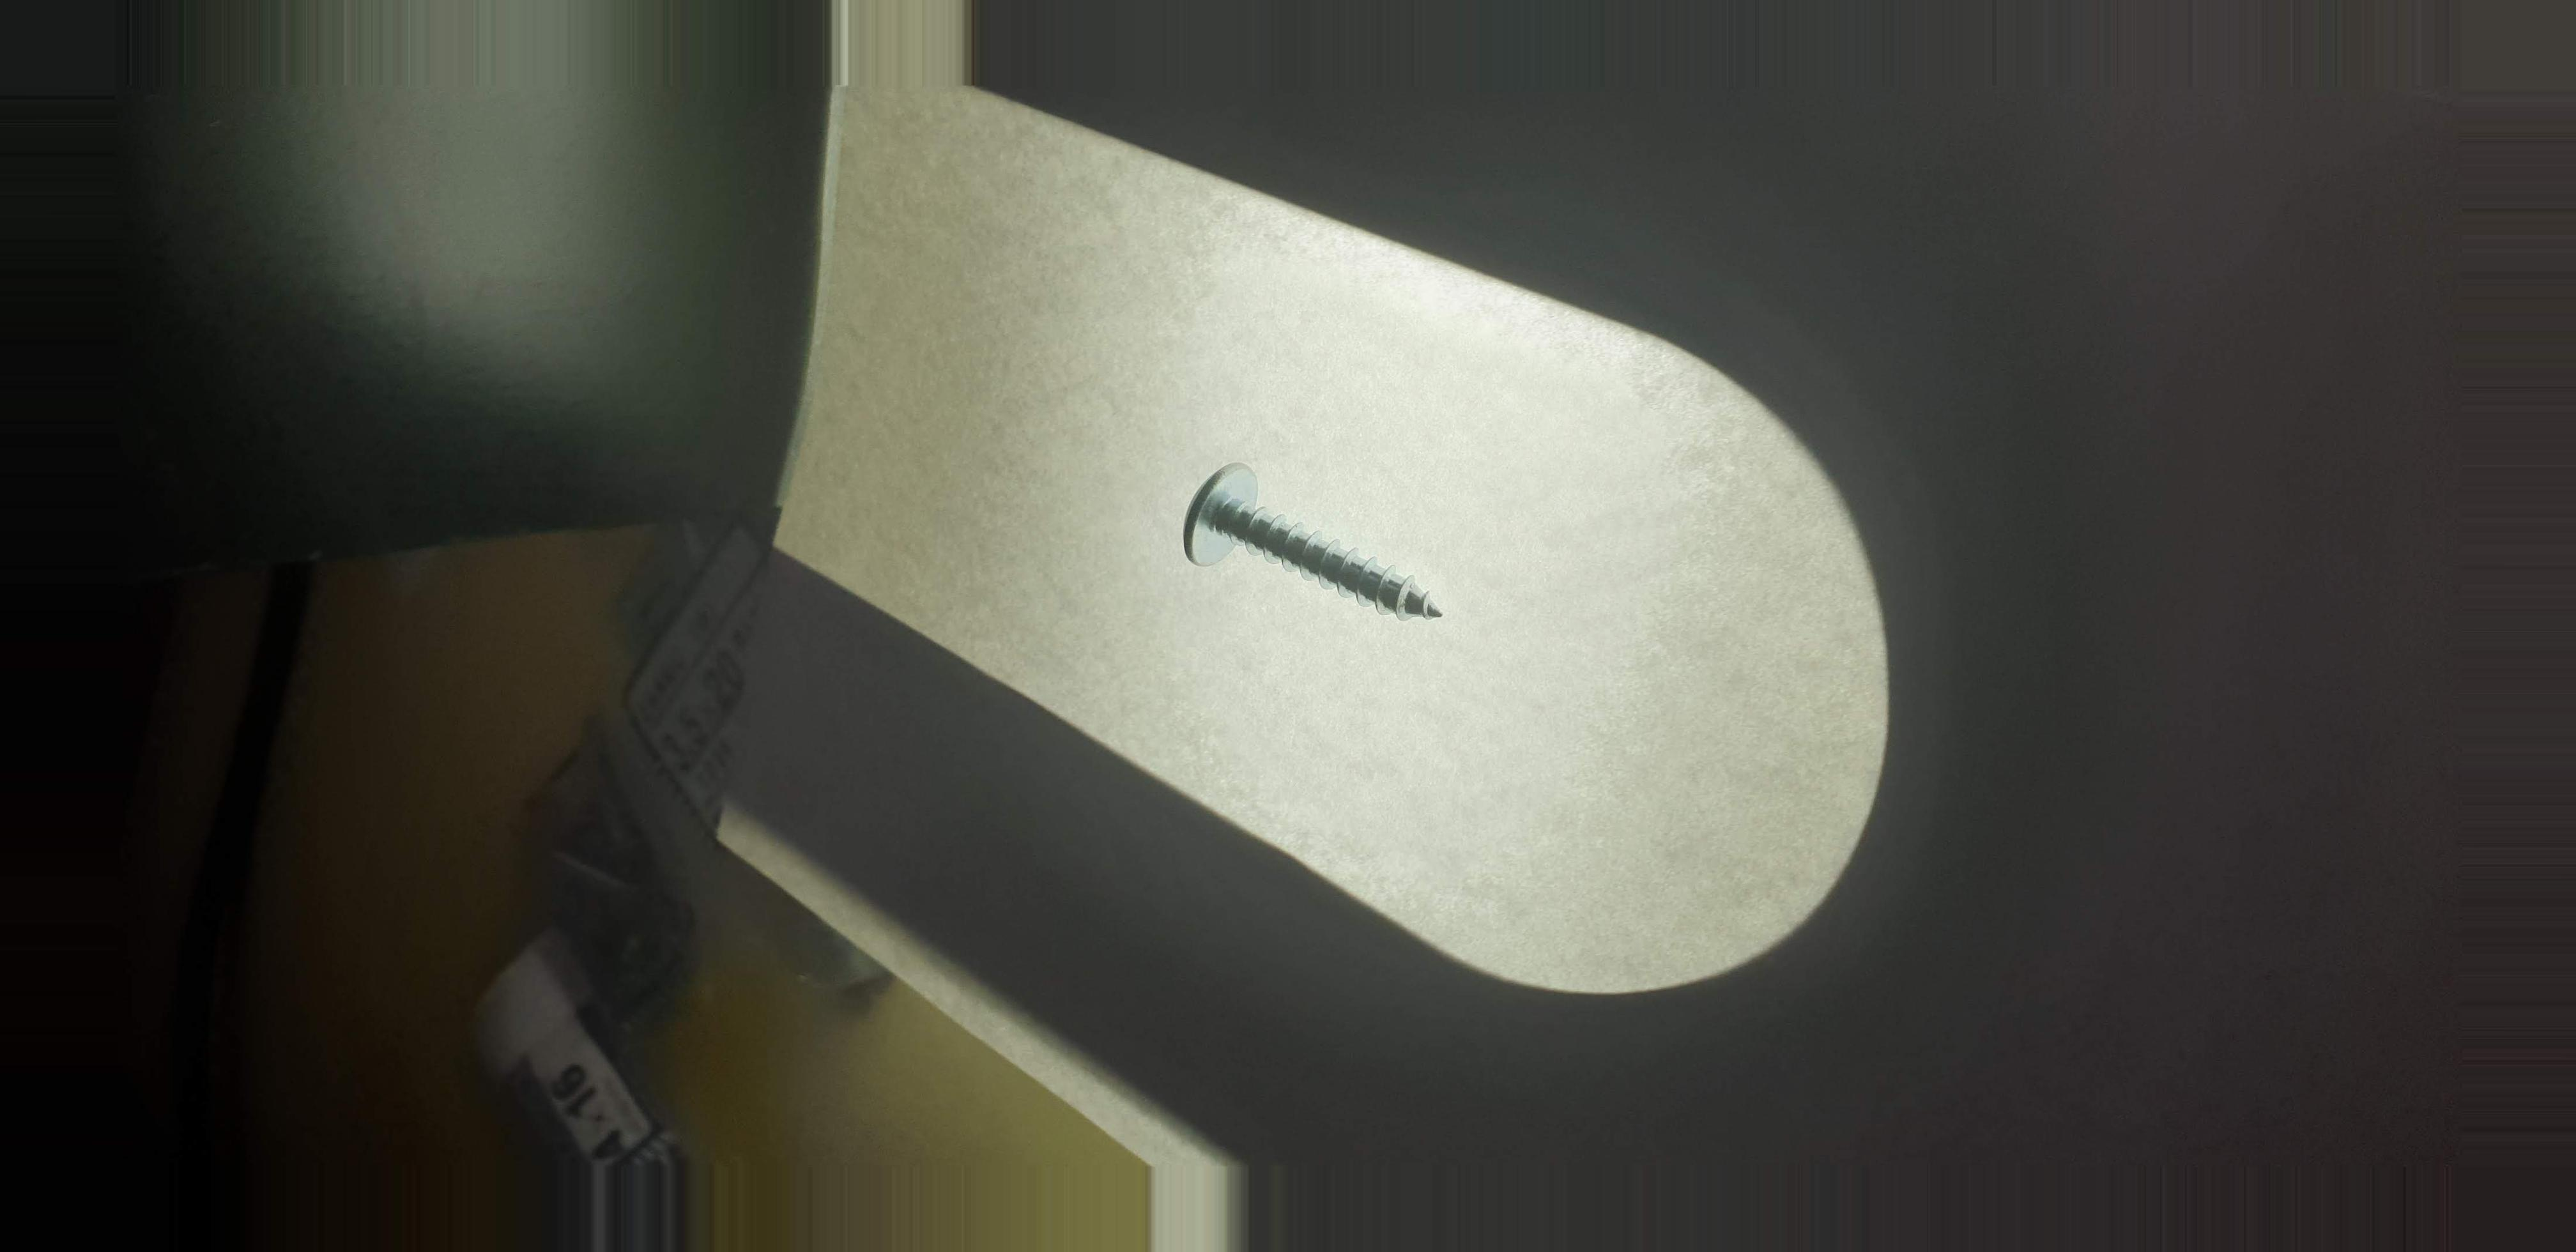S002: (1143, 429, 1477, 652)
